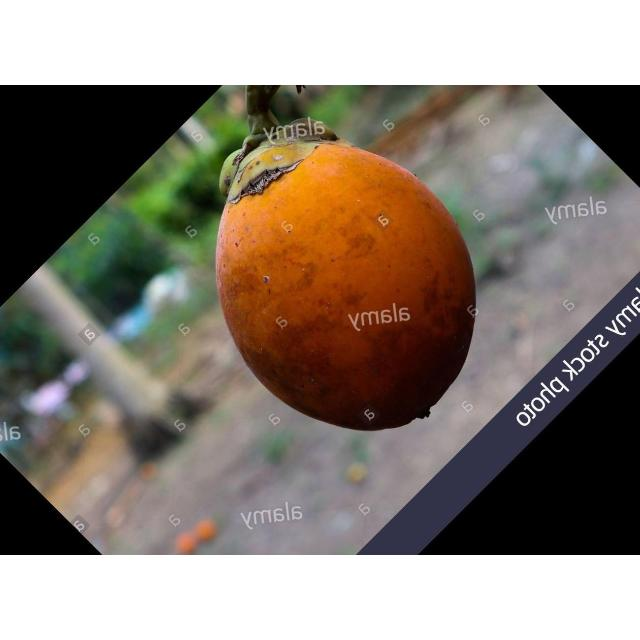good: (215, 119, 477, 434)
